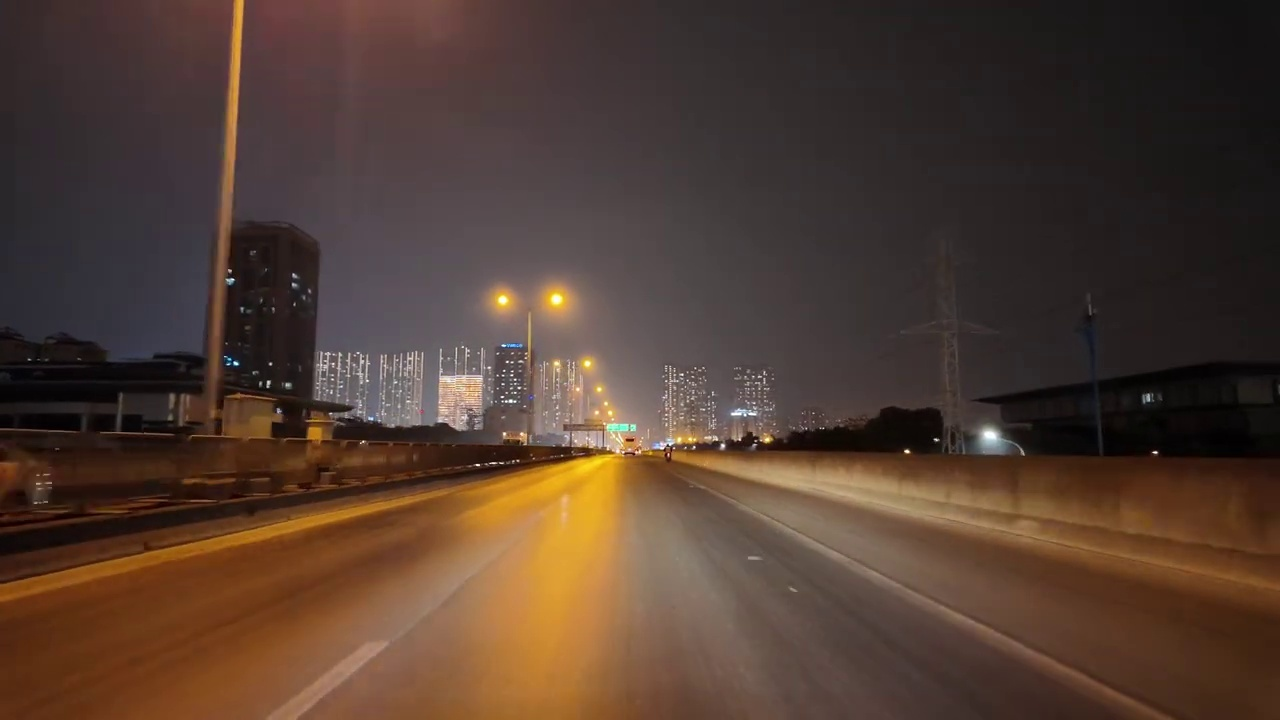acesa: (542, 285, 573, 316), (488, 286, 518, 315), (578, 354, 600, 375)
